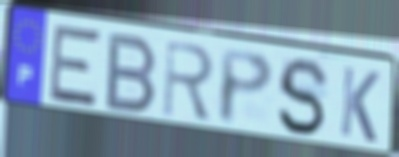B: (102, 30, 160, 117)
E: (46, 22, 104, 110)
K: (337, 63, 382, 147)
P: (217, 46, 276, 129)
R: (160, 37, 216, 124)
S: (275, 54, 331, 139)
